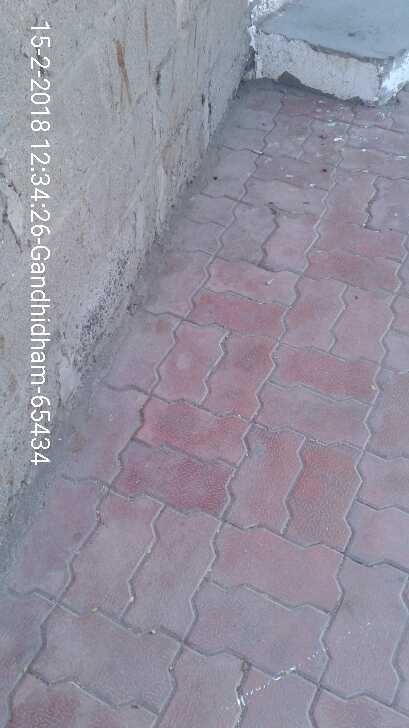reject: (156, 319, 296, 470)
